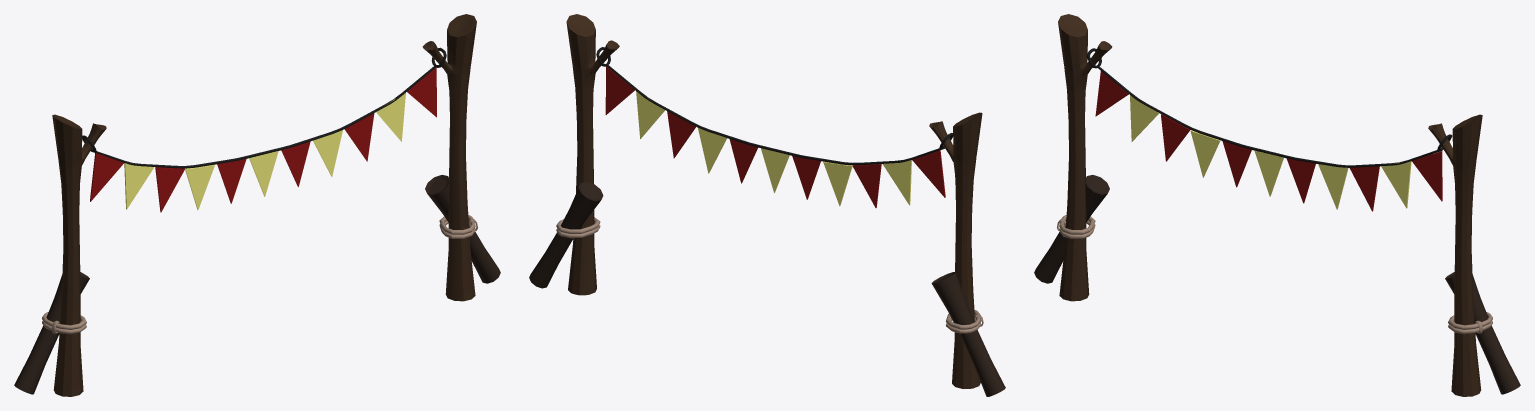
Rendered from Drapeau.fbx.
3 views of the same model, side by side, from view 1: azimuth 30°, elevation 25°; view 2: azimuth 150°, elevation 25°; view 3: azimuth 330°, elevation 25° (orthographic). The views are drawn at different scales.
Visible parts, largest first — view 1: Plane001, Cylinder017, Cylinder019, Cylinder020, Cylinder018, Line003, Line002; view 2: Plane001, Cylinder017, Cylinder019, Cylinder020, Cylinder018, Line002, Line003; view 3: Plane001, Cylinder019, Cylinder017, Cylinder018, Cylinder020, Line002, Line003.
Boxes of the visible parts, x1,y1,x2,y2 form: Plane001: (82, 47, 446, 212); Cylinder017: (422, 14, 476, 301); Cylinder019: (52, 114, 106, 396); Cylinder020: (14, 272, 89, 394); Cylinder018: (425, 175, 500, 283); Line003: (42, 312, 86, 334); Line002: (439, 215, 477, 238); Plane001: (596, 47, 953, 207); Cylinder017: (566, 14, 619, 295); Cylinder019: (929, 112, 982, 388); Cylinder020: (931, 272, 1005, 396); Cylinder018: (529, 182, 603, 288); Line002: (556, 217, 600, 238); Line003: (946, 309, 983, 333); Plane001: (1087, 48, 1452, 211); Cylinder019: (1058, 14, 1112, 301); Cylinder017: (1428, 114, 1482, 396); Cylinder018: (1445, 272, 1520, 394); Cylinder020: (1034, 175, 1109, 283); Line002: (1448, 312, 1492, 334); Line003: (1057, 215, 1095, 238).
Size of the model in its own units: 3.17 by 1.73 by 0.2597.
